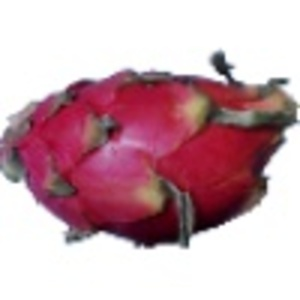pitaia: (1, 49, 300, 249)
